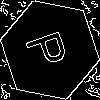P: (25, 25, 77, 71)
